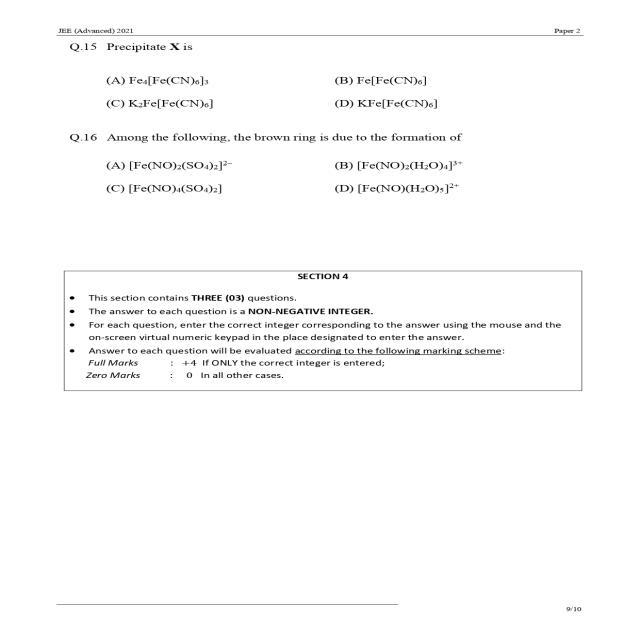Answer_Block: (38, 66, 598, 128), (38, 155, 598, 210)
Instruction: (38, 252, 598, 405)
Question_Answer_Block: (38, 125, 598, 214), (38, 38, 598, 125)
Question_Block: (38, 125, 598, 156), (38, 39, 598, 69)
Question_Paper_Area: (38, 39, 598, 598)
